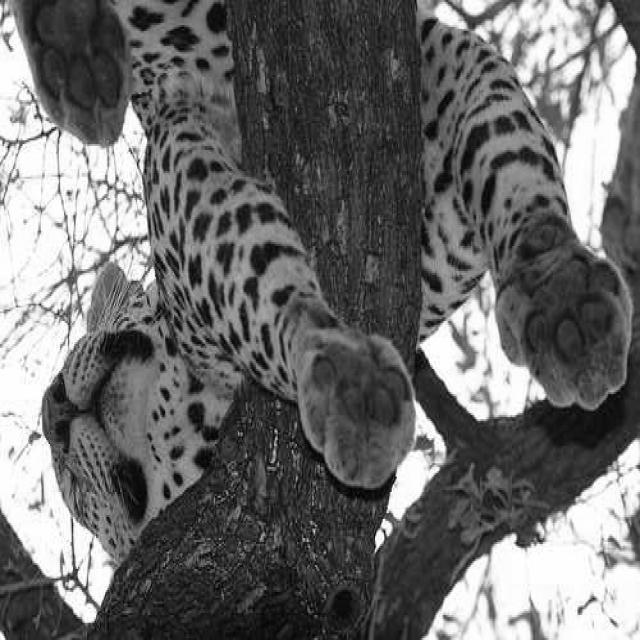Leopard: (12, 6, 542, 543)
Tiger: (6, 0, 632, 565)
